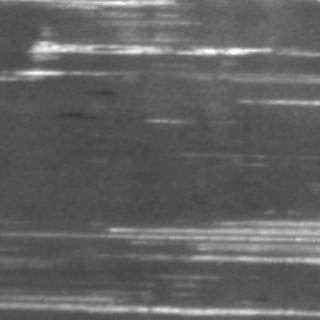scratches: (0, 27, 316, 97), (69, 212, 317, 264), (0, 290, 316, 314)
